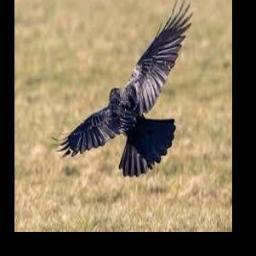Crow: (52, 0, 195, 176)
